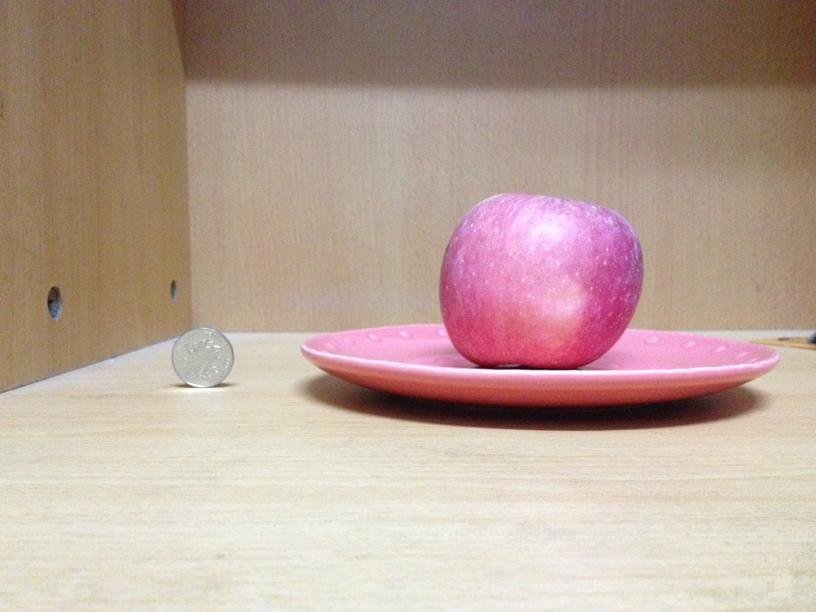apple: (436, 191, 644, 367)
coin: (171, 324, 236, 388)
